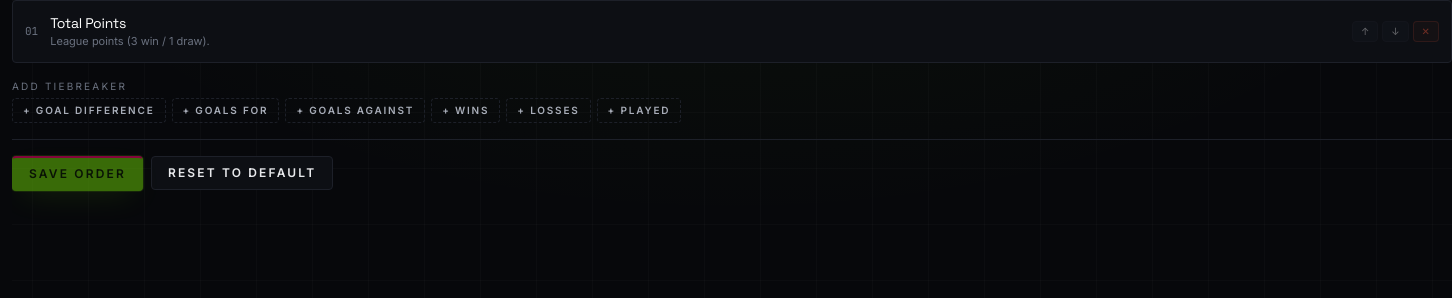
Test: TiebreakerDragRank › can add an unused key from the chip strip
Click the button with test id "tiebreaker-add-wins". click: x=466, y=110
box: [431,98,500,122]
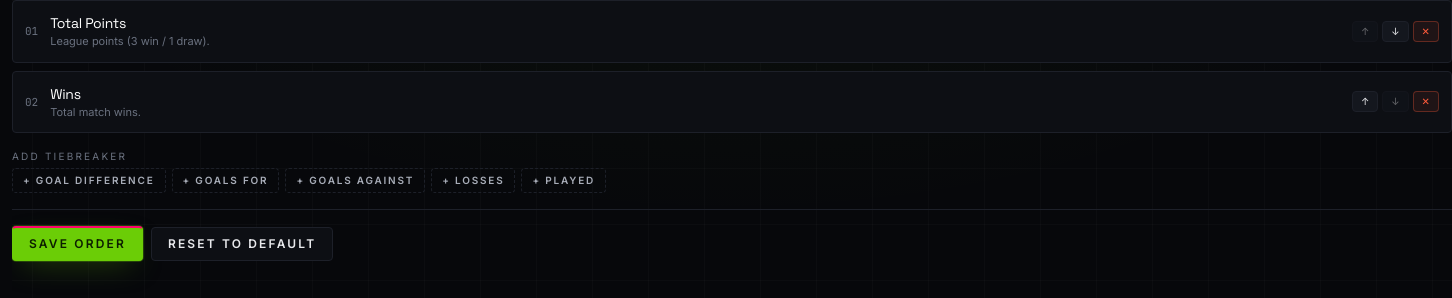
expect the list item with test id "tiebreaker-row-wins" is shown: met, box [12,70,1451,133]
